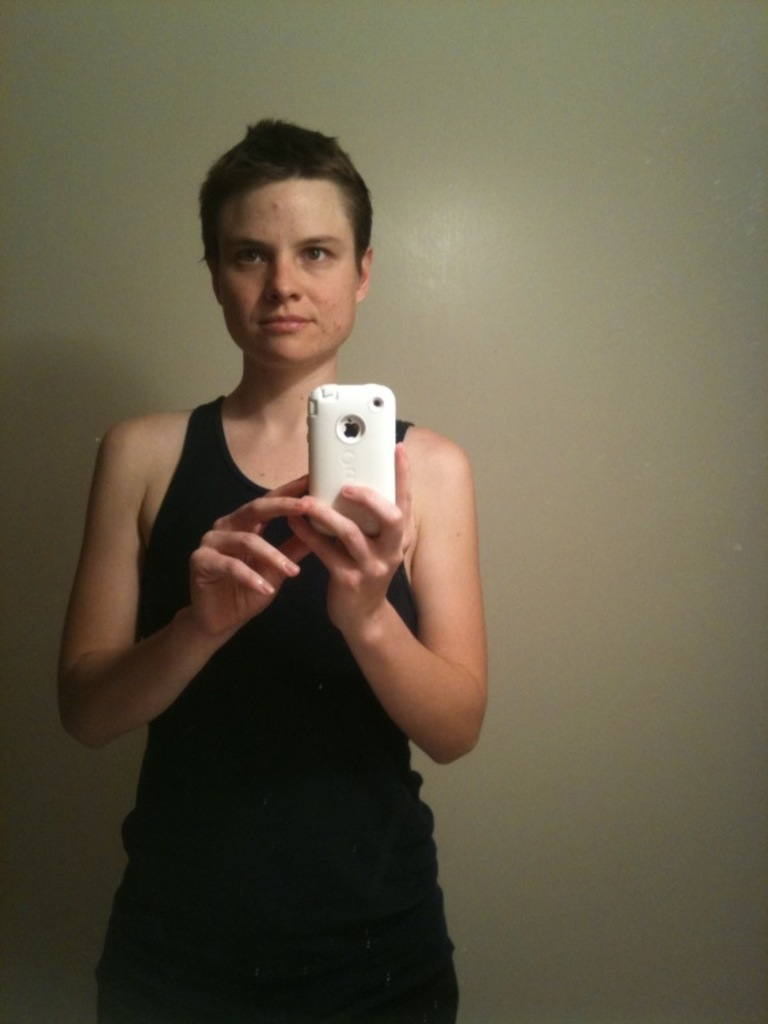Mobile-phone: (304, 376, 402, 522)
